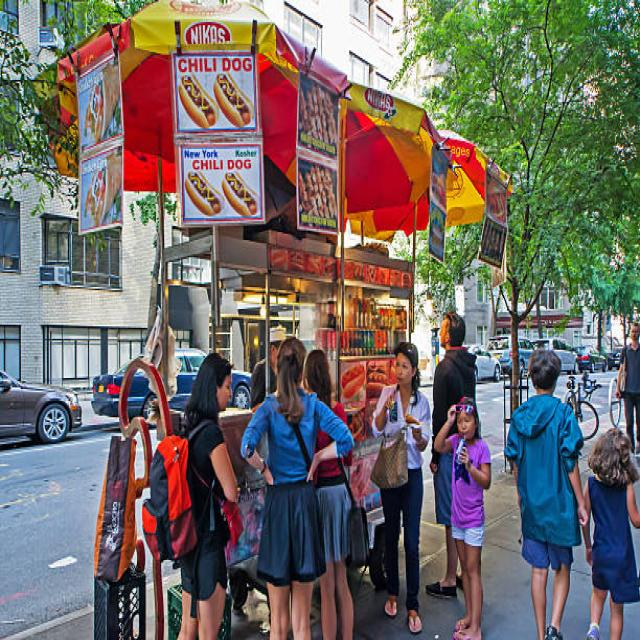Emperan: (28, 0, 518, 640)
